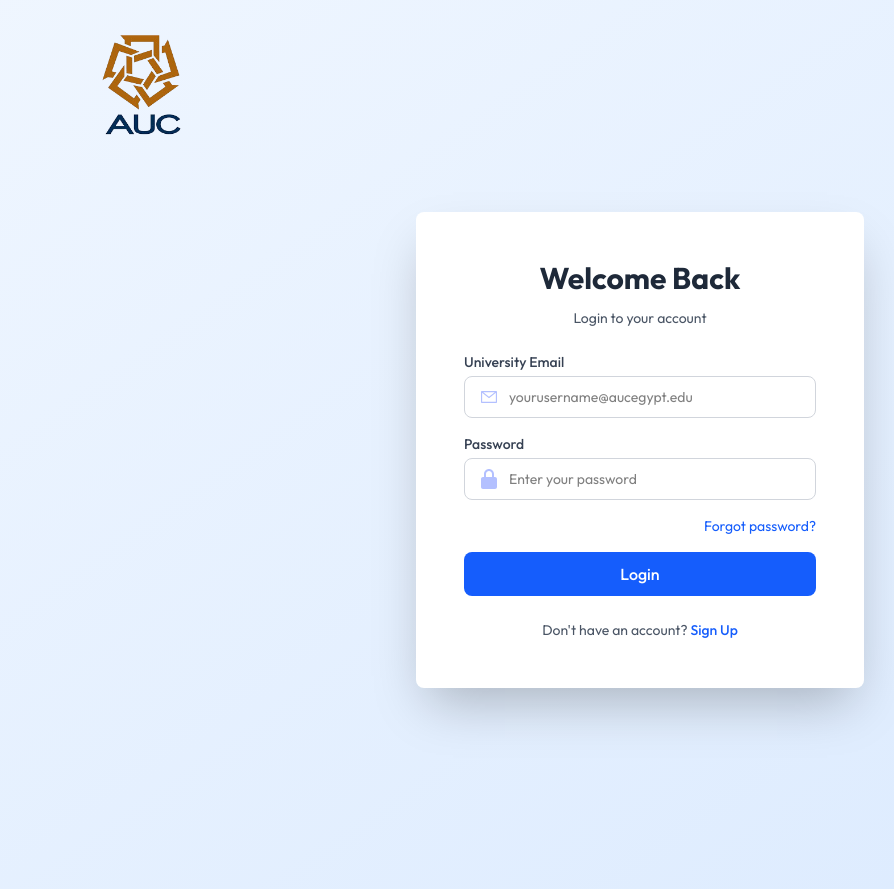
Test: Login Component › switches to signup mode
The image size is (894, 889).
Click the text "Sign Up". click: (714, 630)
box: [690, 621, 738, 639]
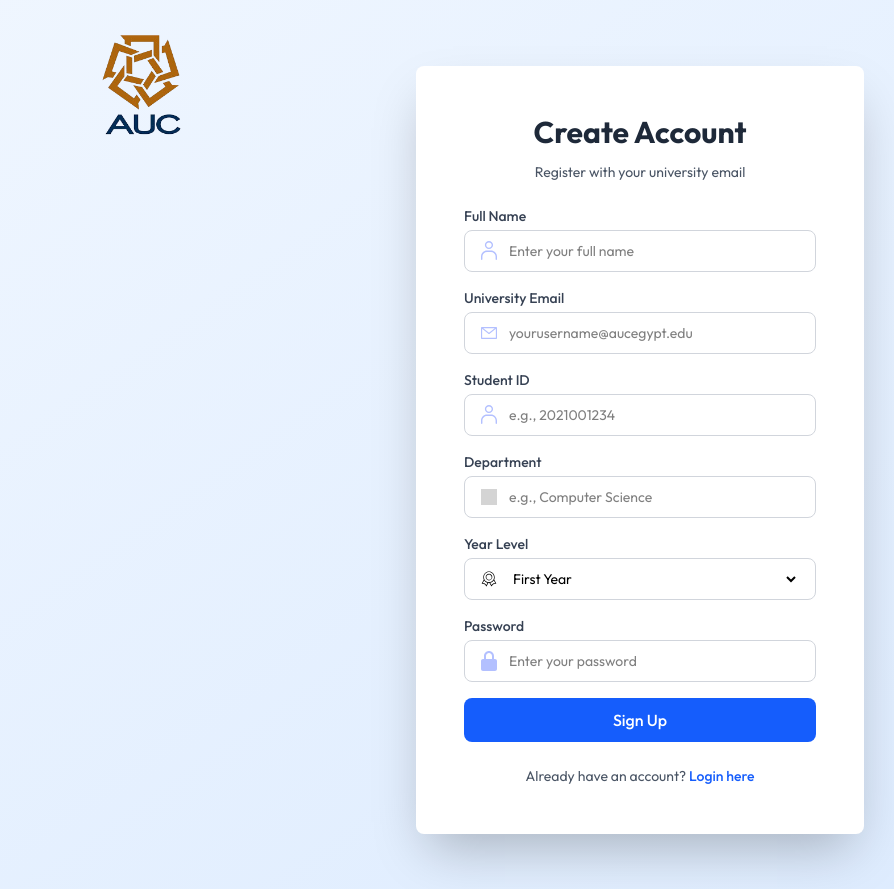
expect the field with placeholder "Enter your full name" is shown: met, box [509, 241, 799, 261]
